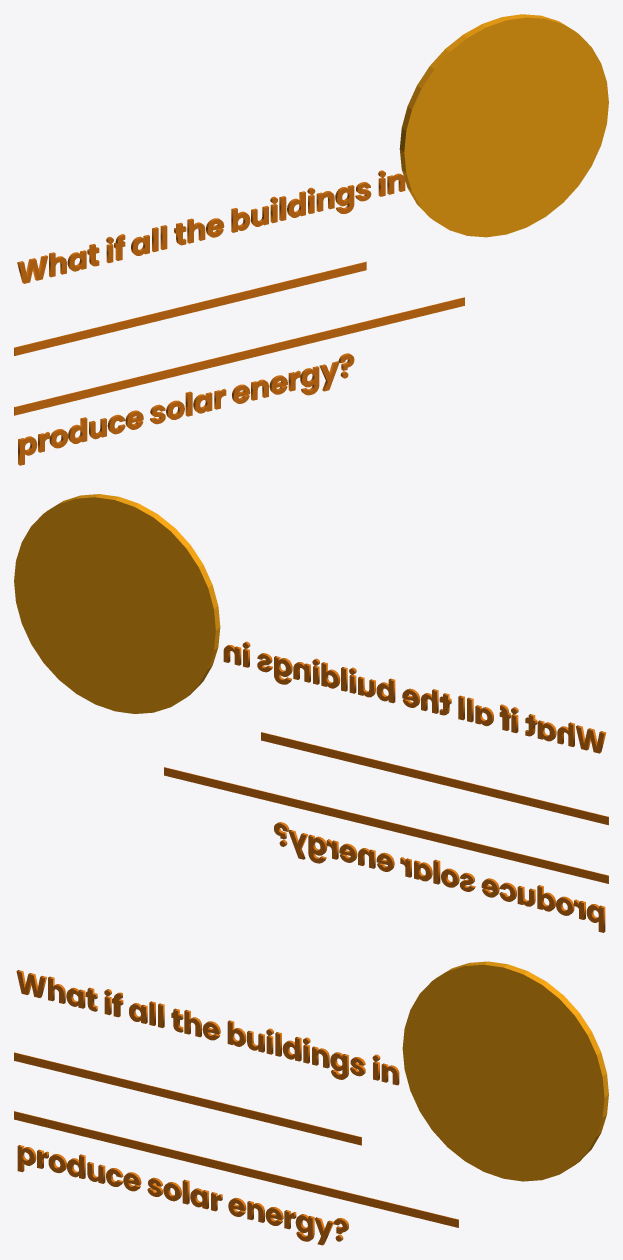
The model's file is yazi.gltf.
3 views of the same model, one above another, from view 1: azimuth 30°, elevation 25°; view 2: azimuth 150°, elevation 25°; view 3: azimuth 330°, elevation 25° (orthographic).
Parts seen in each view (by area): view 1: Günes.006, Text.065, Text.064, Plane.036, Plane.037; view 2: Günes.006, Text.065, Text.064, Plane.036, Plane.037; view 3: Günes.006, Text.065, Text.064, Plane.036, Plane.037.
Boxes of the visible parts, box(x1,y1,x2,y2) form: Günes.006: box(399, 14, 608, 237); Text.065: box(17, 170, 405, 283); Text.064: box(18, 353, 354, 465); Plane.036: box(14, 297, 464, 415); Plane.037: box(14, 261, 366, 355); Günes.006: box(14, 494, 220, 713); Text.065: box(223, 641, 606, 753); Text.064: box(274, 822, 605, 932); Plane.036: box(164, 767, 608, 883); Plane.037: box(261, 732, 608, 825); Günes.006: box(402, 961, 608, 1181); Text.065: box(16, 970, 399, 1085); Text.064: box(17, 1145, 348, 1245); Plane.036: box(14, 1111, 458, 1227); Plane.037: box(14, 1052, 361, 1145).
Size of the model in its own units: 0.8238 by 0.4274 by 0.0182.
